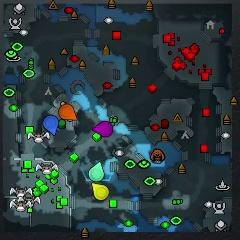p1: (43, 115, 58, 135)
p2: (89, 161, 105, 181)
p3: (91, 121, 113, 137)
p4: (91, 183, 109, 200)
p5: (59, 104, 77, 120)
